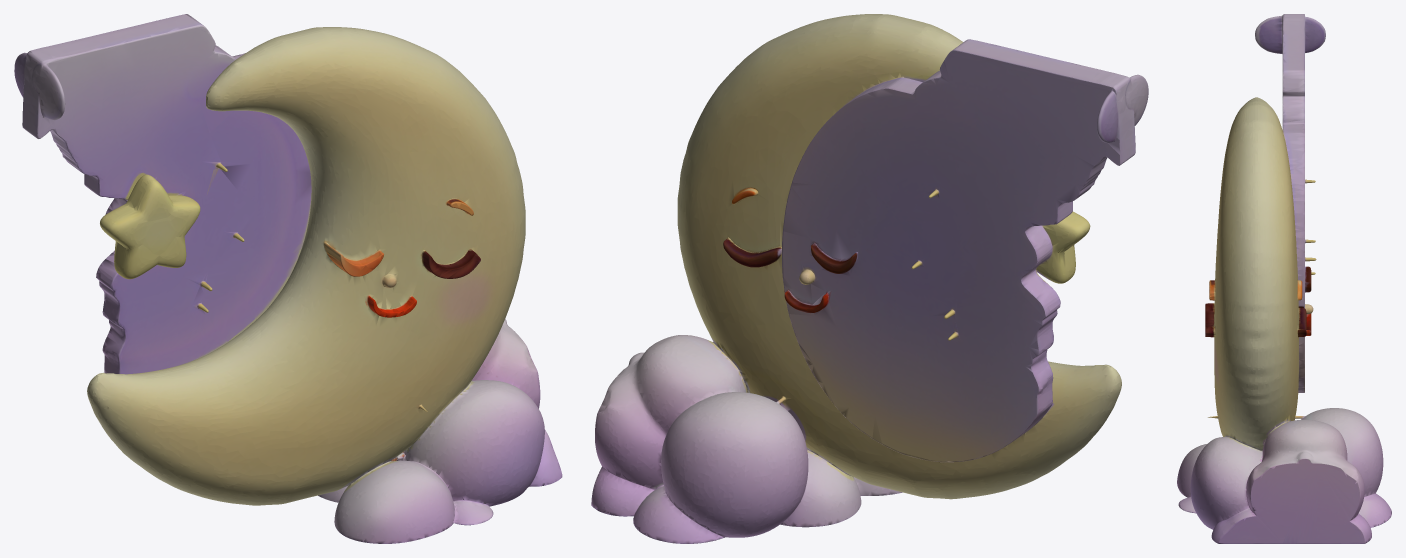
File: tripo_convert_6f9e9fd5-1549-4d79-991a-c5a68f3ba2be.fbx
The picture shows the model from 3 angles, left to right: view 1: azimuth 30°, elevation 25°; view 2: azimuth 150°, elevation 25°; view 3: azimuth 270°, elevation 25°; orthographic projection. The views are drawn at different scales.
Parts seen in each view (by area): view 1: tripo_node_6f9e9fd5; view 2: tripo_node_6f9e9fd5; view 3: tripo_node_6f9e9fd5.
Part boxes in pixels (x1,y1,x2,y2): tripo_node_6f9e9fd5: (14,14,562,543); tripo_node_6f9e9fd5: (591,14,1148,543); tripo_node_6f9e9fd5: (1177,14,1391,543).
Bounding box in the file's own units: 98.16 × 52.29 × 97.23.
Materials: 1 (1 with a texture image).
